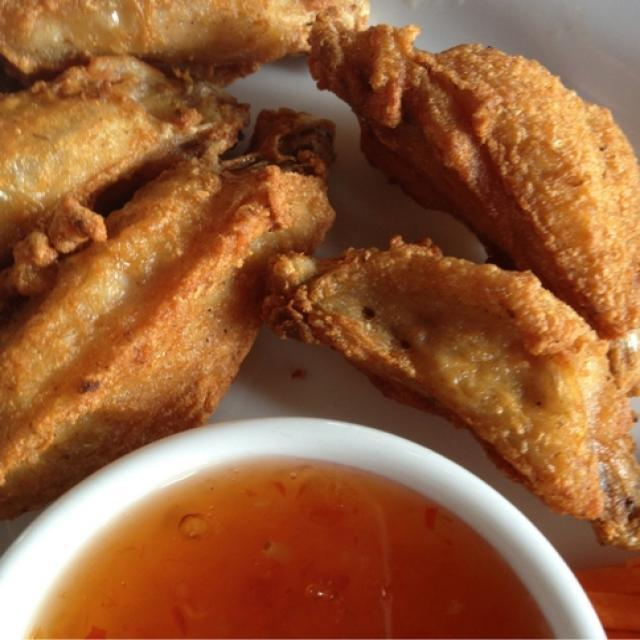Deep fried chicken wing: (4, 5, 640, 474)
